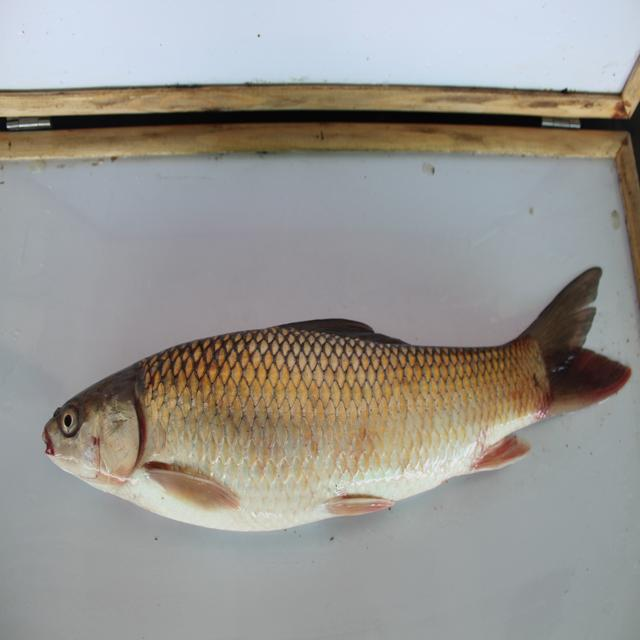Mori: (20, 262, 640, 538)
